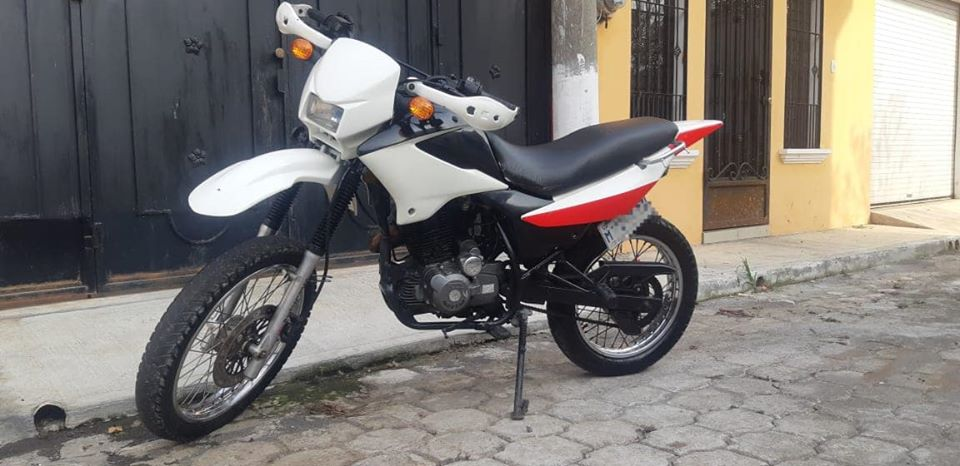moto: (132, 1, 731, 440)
